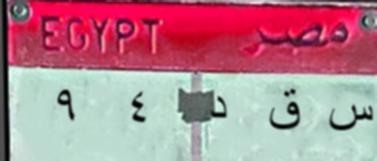4: (130, 90, 148, 130)
9: (56, 84, 78, 128)
daal: (207, 92, 234, 126)
qaaf: (263, 85, 306, 136)
seen: (326, 98, 377, 138)
